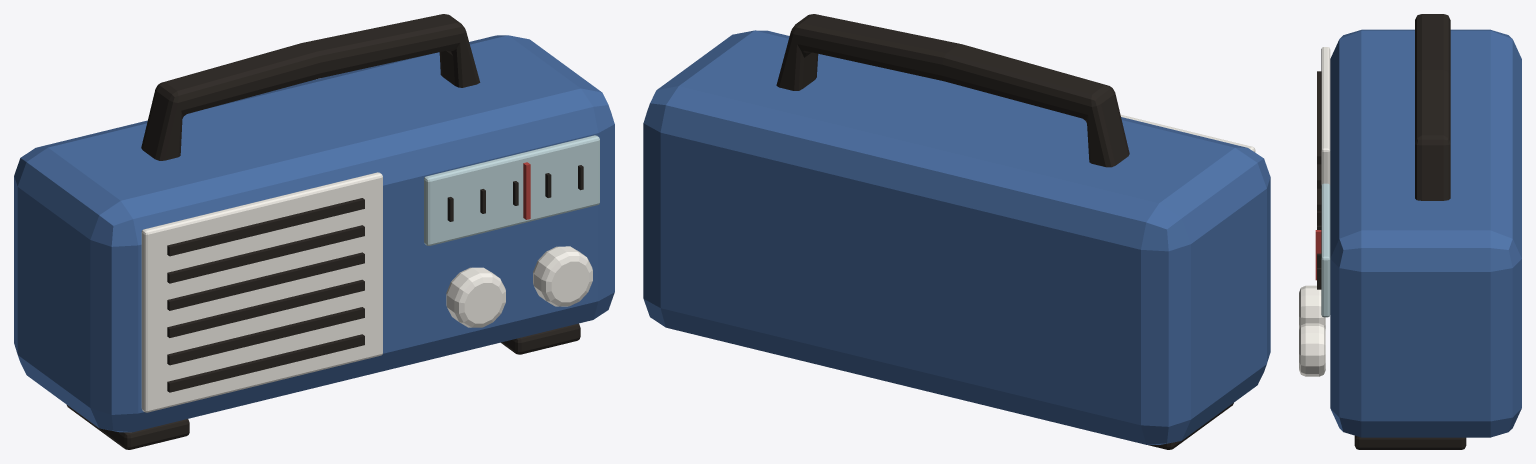
File: hh_cat_radio_kitchen.glb
3 views of the same model, side by side, from view 1: azimuth 30°, elevation 25°; view 2: azimuth 150°, elevation 25°; view 3: azimuth 270°, elevation 25° (orthographic). The views are drawn at different scales.
Visible parts, largest first — view 1: radio_body, grille, handle, dial_window, knob, knob.001, grille_slot, grille_slot.004, grille_slot.001, grille_slot.003, grille_slot.002, grille_slot.005 (+2 smaller); view 2: radio_body, handle; view 3: radio_body, handle, foot.001, knob.001, grille, dial_window, knob, grille_slot.005.
Part boxes in pixels (x1,y1,x2,y2): radio_body: (14,35,614,432); grille: (141,172,382,412); handle: (141,14,480,160); dial_window: (424,135,599,245); knob: (446,267,505,327); knob.001: (533,246,592,306); grille_slot: (167,334,364,392); grille_slot.004: (167,225,364,283); grille_slot.001: (167,307,364,365); grille_slot.003: (167,252,364,310); grille_slot.002: (167,279,364,337); grille_slot.005: (167,198,364,256); radio_body: (643,30,1270,444); handle: (776,14,1129,167); radio_body: (1330,29,1521,437); handle: (1415,14,1450,200); foot.001: (1354,435,1466,449); knob.001: (1299,323,1325,376); grille: (1321,47,1330,185); dial_window: (1321,183,1330,317); knob: (1299,285,1325,329); grille_slot.005: (1317,71,1321,164).
Bounding box in the file's own units: 0.24 × 0.14 × 0.1.
